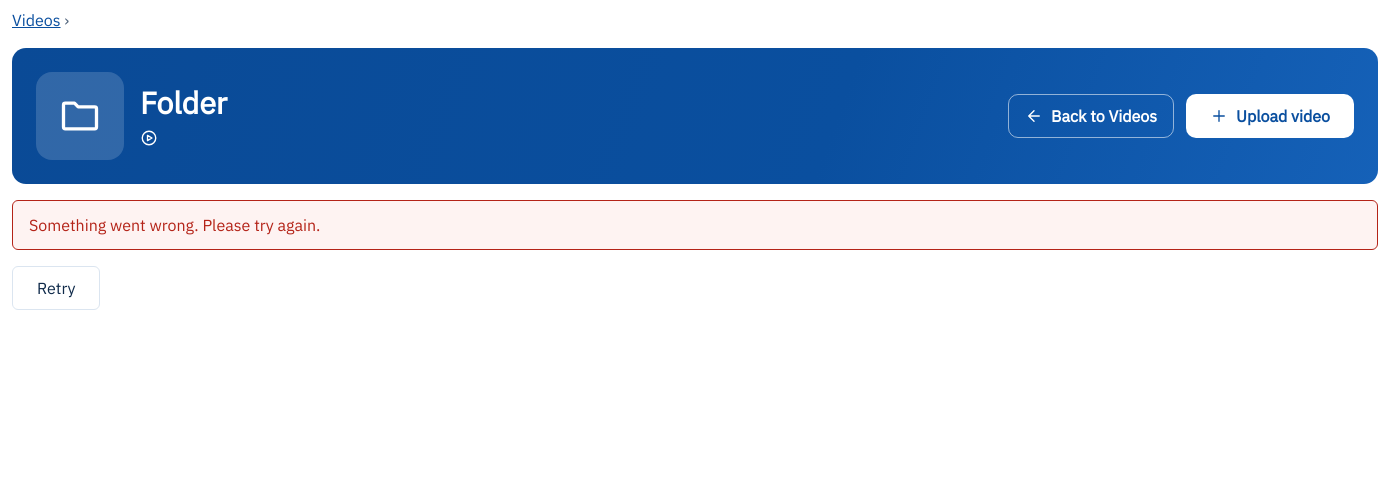
FolderPage › offers Retry when loading fails
Expected: the message shows "Something went wrong", [29, 215, 320, 235]
Click the button "Retry". click: (56, 288)
box: [12, 266, 100, 310]
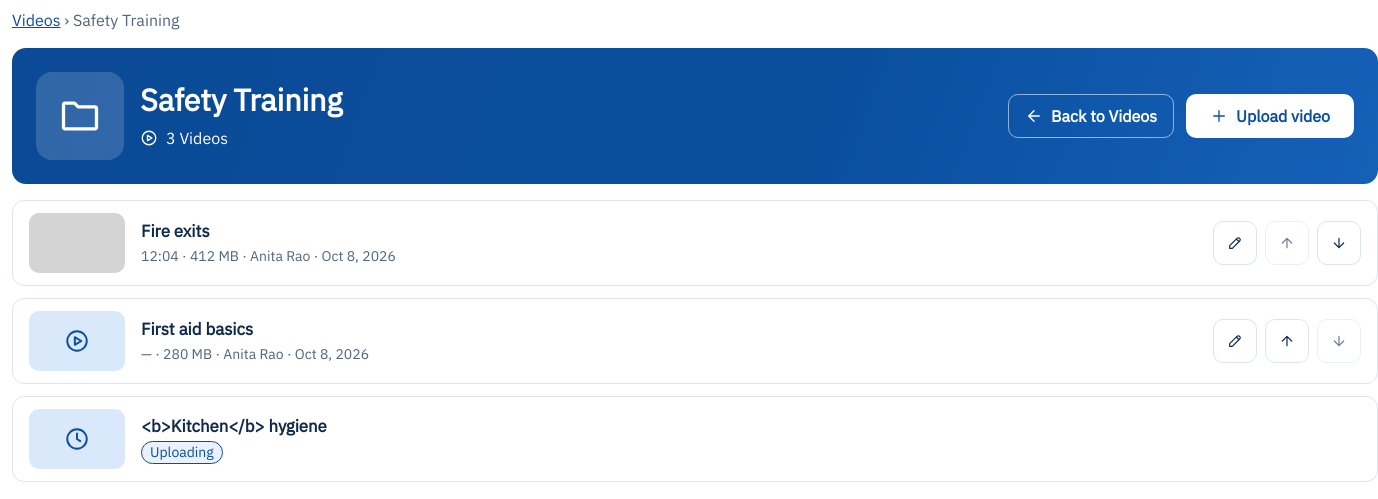
Expected: the heading "Safety Training" is shown, [140, 80, 342, 119]
